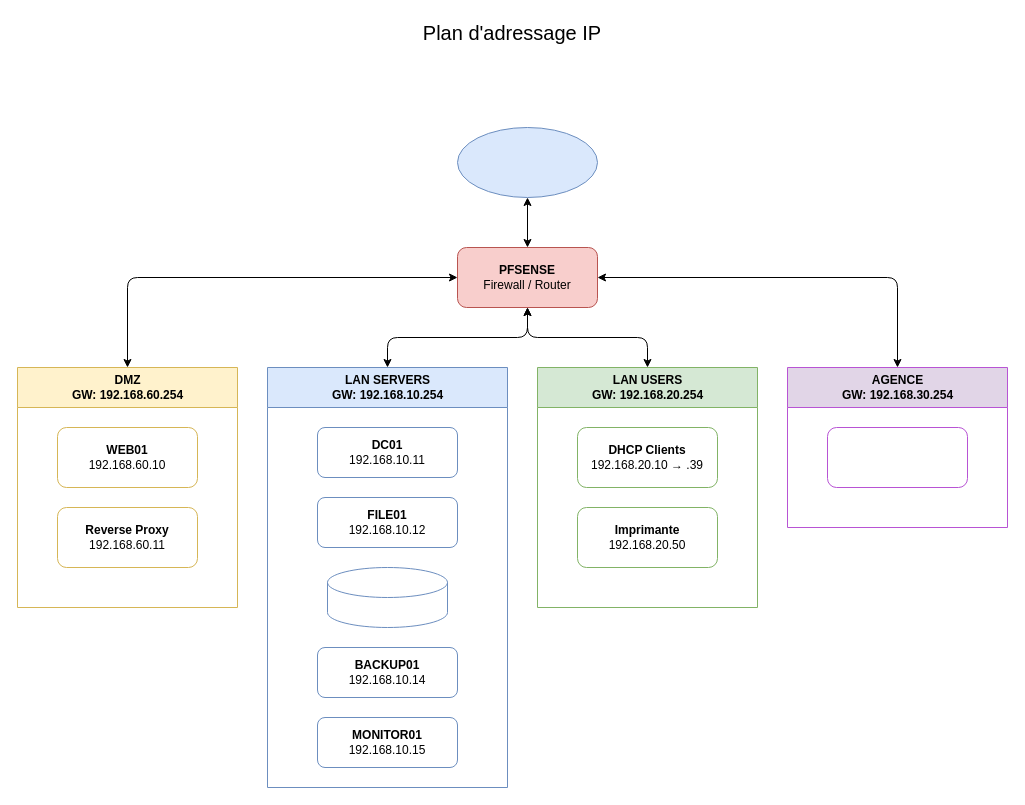
Some shapes in this 1025 by 805 pixel diagram are drawn without their labels. Here are the shapes that lost their labels. From the top down, the centre of each, then its label:
the point at 527,162: WAN DHCP
the point at 897,457: DHCP Clients 192.168.30.10 → .15
the point at 387,597: DB01 192.168.10.13
